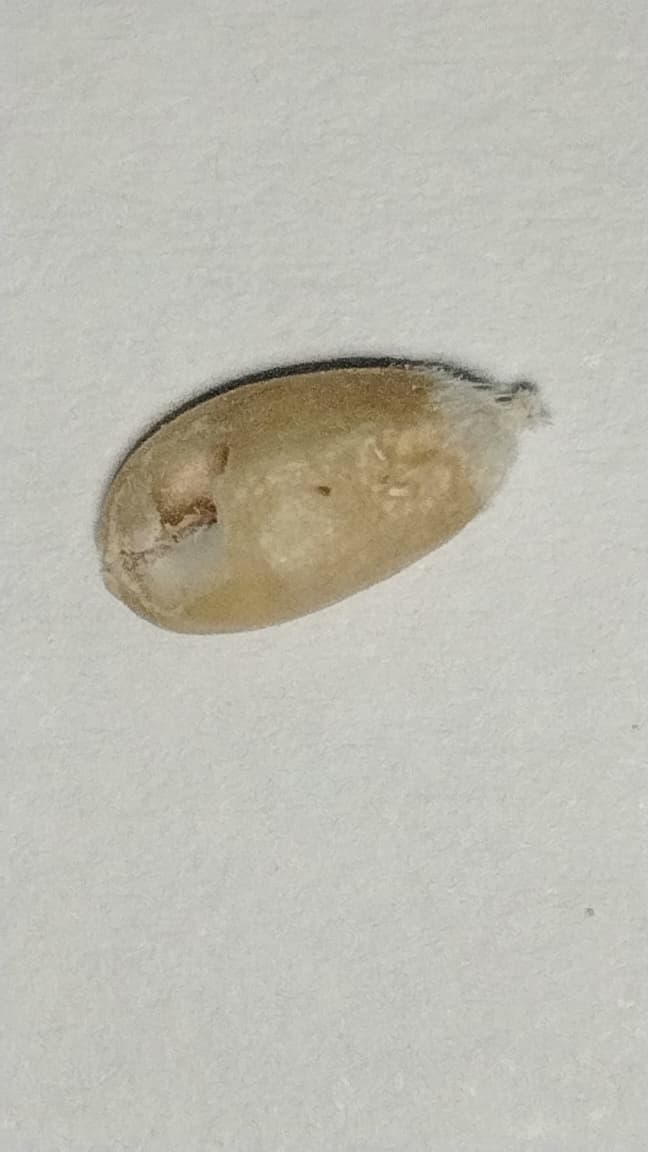damage: (97, 359, 546, 631)
insectdamage: (106, 413, 254, 633)
